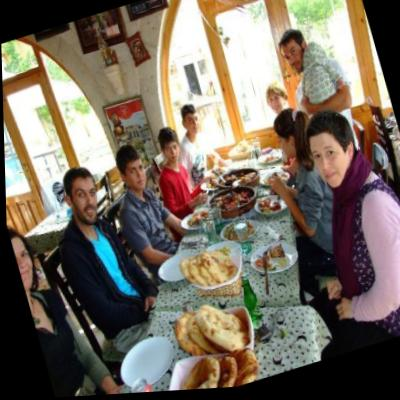happy: (68, 176, 101, 225), (264, 90, 287, 118)
netural: (280, 44, 306, 80), (185, 111, 202, 139)
sad: (124, 160, 148, 193), (161, 139, 183, 167)
